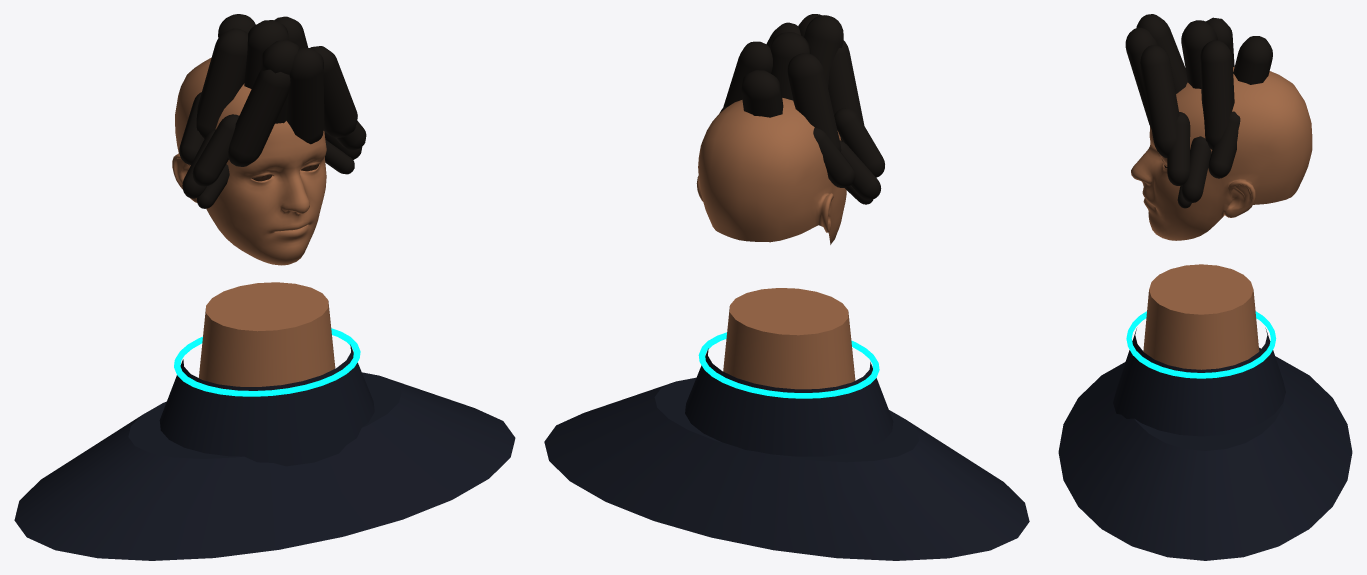
The model's file is santhosh-digital-human.glb.
The picture shows the model from 3 angles, left to right: view 1: azimuth 30°, elevation 25°; view 2: azimuth 150°, elevation 25°; view 3: azimuth 270°, elevation 25°; orthographic projection. The views are drawn at different scales.
Visible parts, largest first — view 1: Officer_Collar_Base, Santhosh_Officer_Hair, Wolf3D_Head; view 2: Officer_Collar_Base, Wolf3D_Head, Santhosh_Officer_Hair; view 3: Officer_Collar_Base, Santhosh_Officer_Hair, Wolf3D_Head.
Boxes of the visible parts, <box> form: Officer_Collar_Base: <box>14,282,515,560</box>; Santhosh_Officer_Hair: <box>179,14,366,208</box>; Wolf3D_Head: <box>172,57,326,265</box>; Officer_Collar_Base: <box>544,288,1029,560</box>; Wolf3D_Head: <box>696,98,846,244</box>; Santhosh_Officer_Hair: <box>720,14,884,204</box>; Officer_Collar_Base: <box>1058,264,1352,560</box>; Santhosh_Officer_Hair: <box>1125,14,1272,208</box>; Wolf3D_Head: <box>1131,67,1312,240</box>.
Size of the model in its own units: 0.616 by 0.5699 by 0.352.
